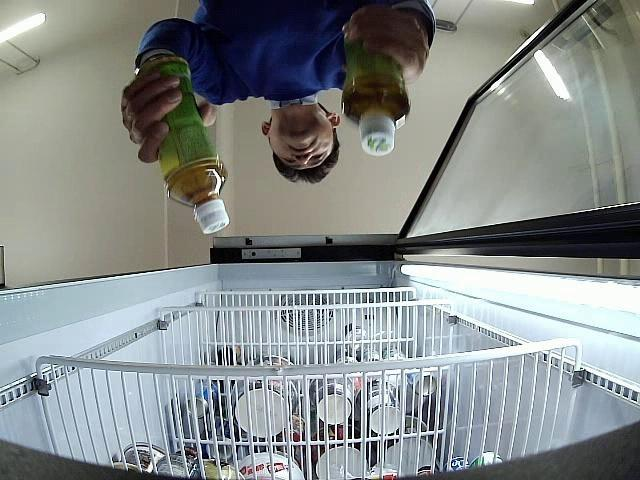19_17cha: (140, 51, 230, 235), (342, 43, 410, 157)
